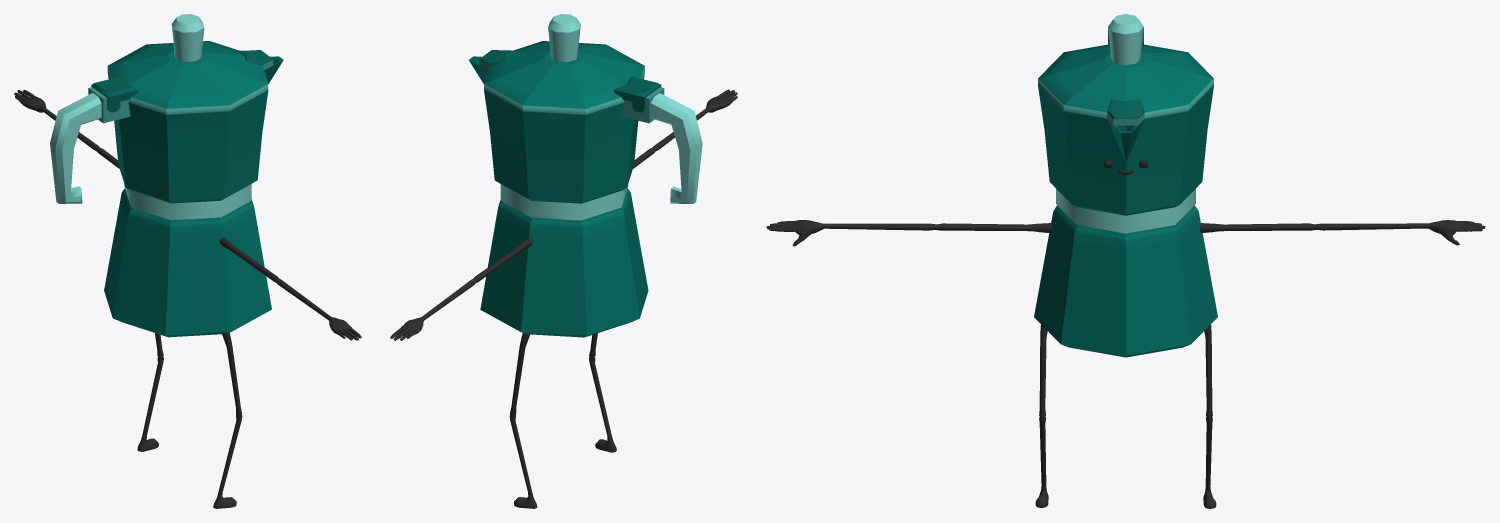
The model's file is Coffee Maker Character.glb.
3 views of the same model, side by side, from view 1: azimuth 30°, elevation 25°; view 2: azimuth 150°, elevation 25°; view 3: azimuth 270°, elevation 25° (orthographic). The views are drawn at different scales.
Parts seen in each view (by area): view 1: _100Avatars_135_CoffeeMaker; view 2: _100Avatars_135_CoffeeMaker; view 3: _100Avatars_135_CoffeeMaker.
Boxes of the visible parts, x1,y1,x2,y2 form: _100Avatars_135_CoffeeMaker: [14, 14, 361, 508]; _100Avatars_135_CoffeeMaker: [390, 14, 737, 508]; _100Avatars_135_CoffeeMaker: [766, 14, 1485, 508].
Size of the model in its own units: 2.14 by 4.09 by 5.5.
Materials: 1 (1 with a texture image).
